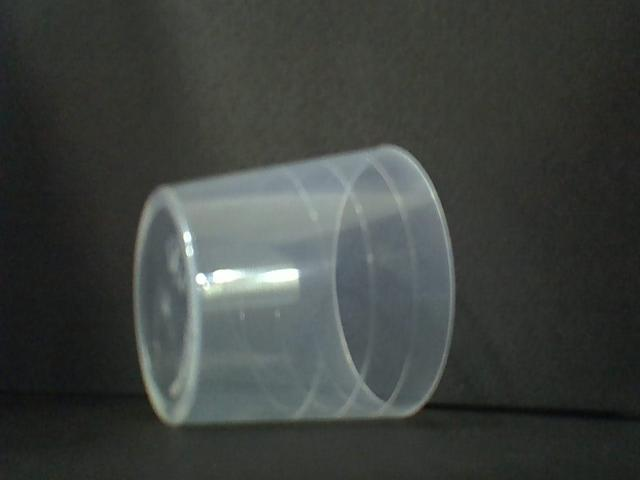cup: (128, 139, 460, 428)
